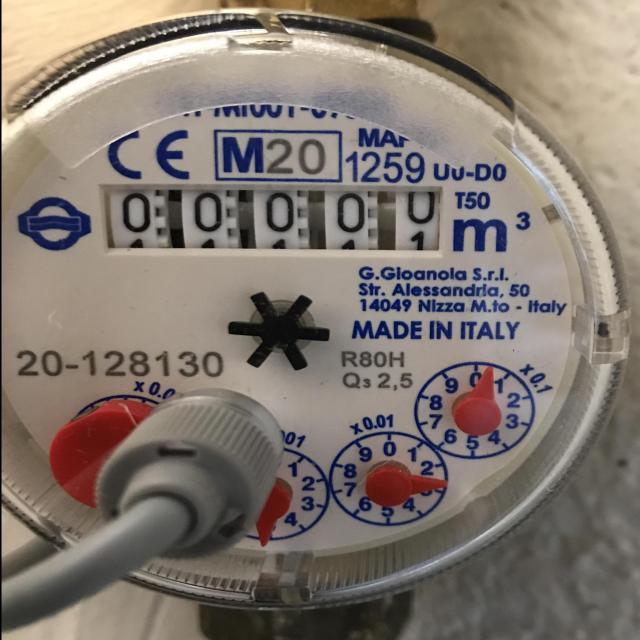gaz_meter: (1, 29, 577, 556)
indication: (102, 184, 446, 251)
